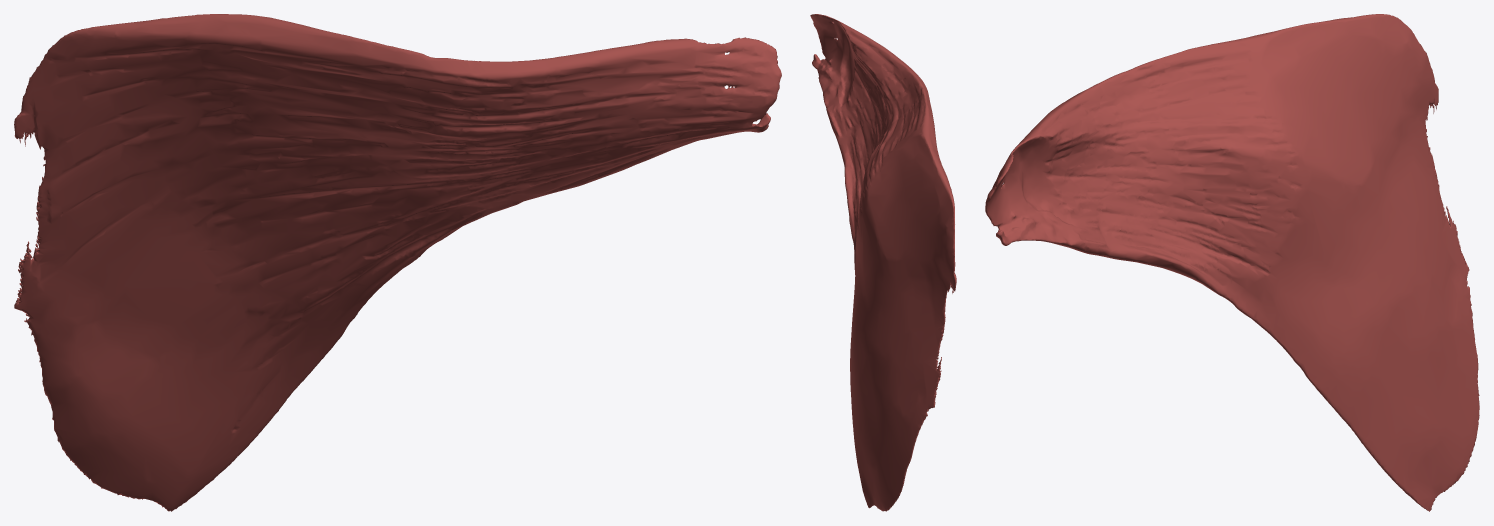
File: FMA13415.glb
3 views of the same model, side by side, from view 1: azimuth 30°, elevation 25°; view 2: azimuth 150°, elevation 25°; view 3: azimuth 270°, elevation 25° (orthographic). The views are drawn at different scales.
Visible parts, largest first — view 1: FMA13415; view 2: FMA13415; view 3: FMA13415.
Boxes of the visible parts, box(x1,y1,x2,y2) form: FMA13415: box(14, 14, 781, 511); FMA13415: box(810, 14, 956, 511); FMA13415: box(985, 14, 1479, 511).
Size of the model in its own units: 0.1016 by 0.111 by 0.1015.
